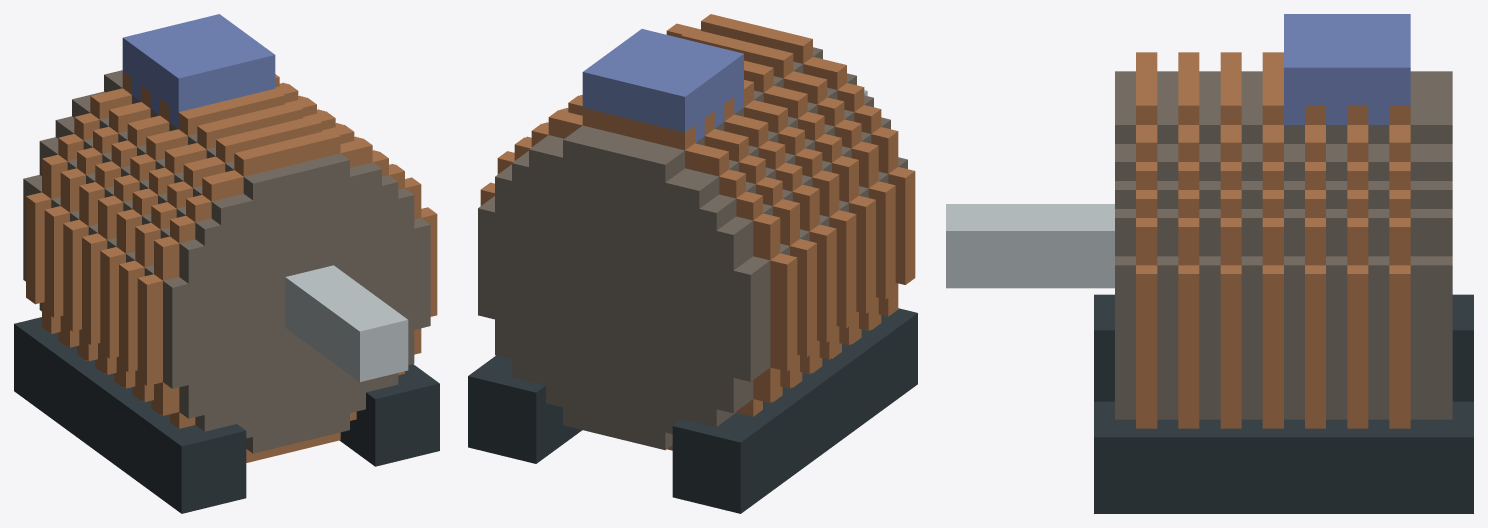
The model's file is generator.glb.
3 views of the same model, side by side, from view 1: azimuth 30°, elevation 25°; view 2: azimuth 150°, elevation 25°; view 3: azimuth 270°, elevation 25° (orthographic). The views are drawn at different scales.
Parts seen in each view (by area): view 1: generator/housing, generator/shaft; view 2: generator/housing; view 3: generator/housing, generator/shaft.
Part boxes in pixels (bbox=[...]): generator/housing: bbox=[14, 14, 439, 513]; generator/shaft: bbox=[285, 265, 408, 381]; generator/housing: bbox=[468, 14, 917, 513]; generator/housing: bbox=[1094, 14, 1473, 513]; generator/shaft: bbox=[946, 204, 1114, 288].
Bounding box in the file's own units: 0.5625 × 0.6562 × 0.7812.
